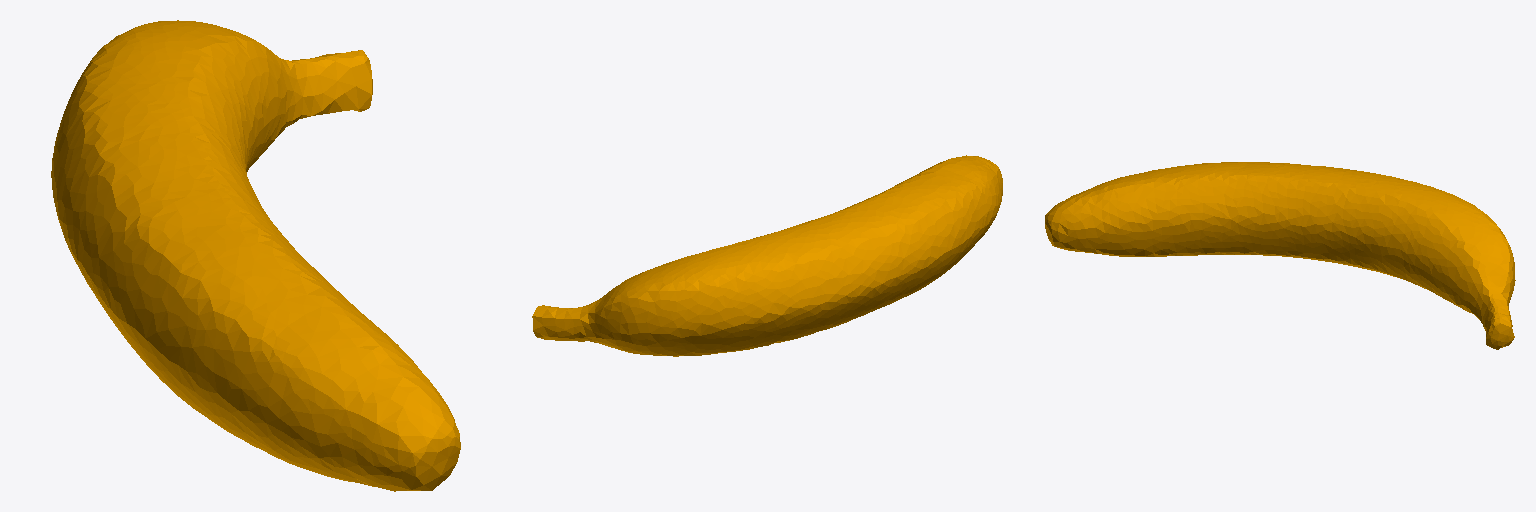
URDF robot description (melissaDougFarmFreshFruitBanana):
<?xml version="1.0" encoding="UTF-8"?>
<robot name="melissaDougFarmFreshFruitBanana">
	<link name="base">
		<collision>
			<geometry>
				<mesh filename="melissaDougFarmFreshFruitBanana.obj"/>
			</geometry>
			<origin xyz="0 0 0"/>
		</collision>
		<visual>
			<geometry>
				<mesh filename="melissaDougFarmFreshFruitBanana.obj"/>
			</geometry>
			<origin xyz="0 0 0"/>
		</visual>
		<inertial>
			<mass value="0.066"/>
			<inertia ixx="0.0001439650897887306" ixy="-4.2512324404179635e-05" ixz="1.0073658587966513e-06" iyy="2.9710749080611398e-05" iyz="-8.605406194371425e-07" izz="0.00016382882031554385" />
			<origin xyz="-0.02142973337006885 0.011412677310055061 -0.000830980529059617"/>
		</inertial>
	</link>
</robot>

--- Facts derived from the render (not from the file) ---
3 views of the same robot in one strip: view 1: azimuth 30°, elevation 25°; view 2: azimuth 150°, elevation 25°; view 3: azimuth 270°, elevation 25° (orthographic).
Robot: melissaDougFarmFreshFruitBanana — 1 links, 0 joints (none); root link base; default pose: every joint at zero.
Links seen in each view (by area): view 1: base; view 2: base; view 3: base.
Link boxes in pixels (x1,y1,x2,y2): base: (51, 20, 460, 491); base: (532, 155, 1002, 356); base: (1045, 162, 1515, 349).
Bounding box of the posed robot: 0.1089 × 0.1784 × 0.0366 m (x, y, z).
1 mesh visuals loaded from 1 distinct referenced files (1 OBJ).
